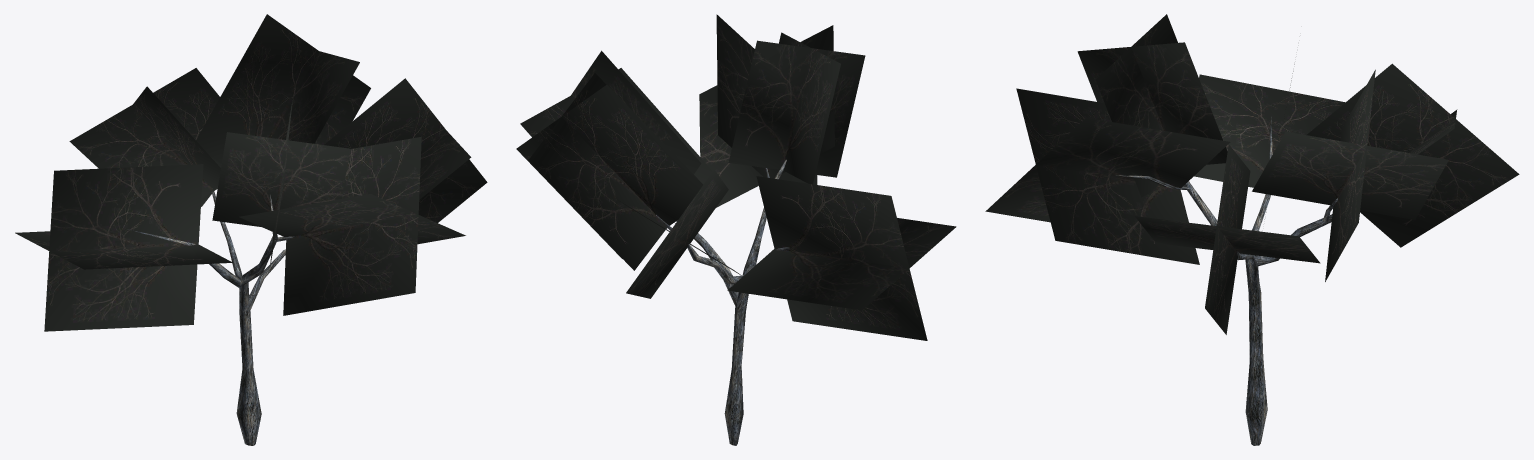
File: decd_scorched_tallbirch_l0.fbx
3 views of the same model, side by side, from view 1: azimuth 30°, elevation 25°; view 2: azimuth 150°, elevation 25°; view 3: azimuth 270°, elevation 25° (orthographic). The views are drawn at different scales.
Visible parts, largest first — view 1: mesh_node; view 2: mesh_node; view 3: mesh_node.
Part boxes in pixels (bbox=[...]): mesh_node: bbox=[15, 14, 487, 445]; mesh_node: bbox=[516, 14, 956, 445]; mesh_node: bbox=[985, 14, 1519, 445].
Size of the model in its own units: 66.69 by 57.89 by 67.86.
